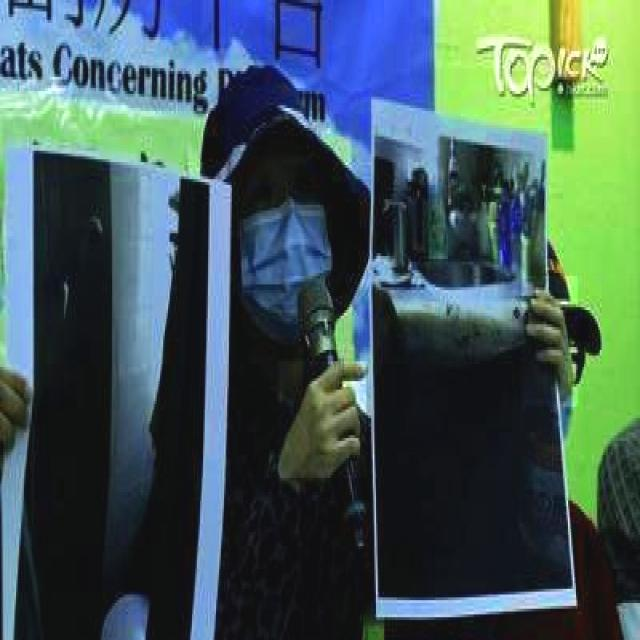face_mask: (230, 156, 333, 342)
hand_noglove: (278, 361, 368, 481), (522, 276, 579, 410)
head_nohelmet: (225, 85, 314, 165)
